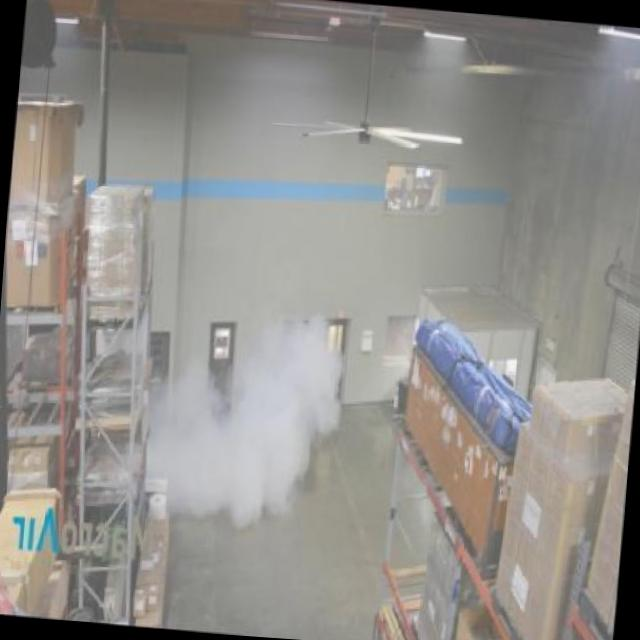smoke: (166, 310, 344, 515)
